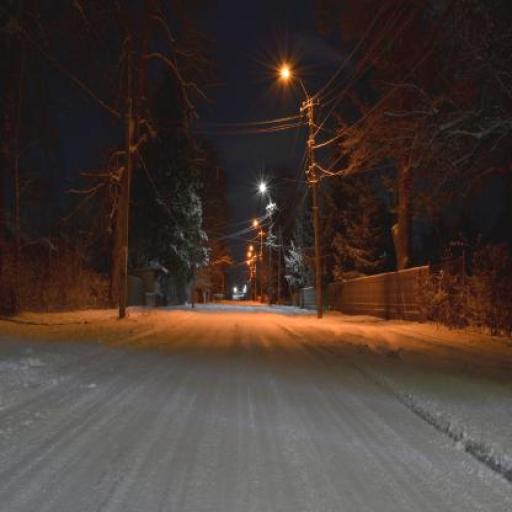street light: (283, 68, 324, 319), (260, 184, 272, 304), (254, 222, 264, 302), (250, 246, 258, 302)
